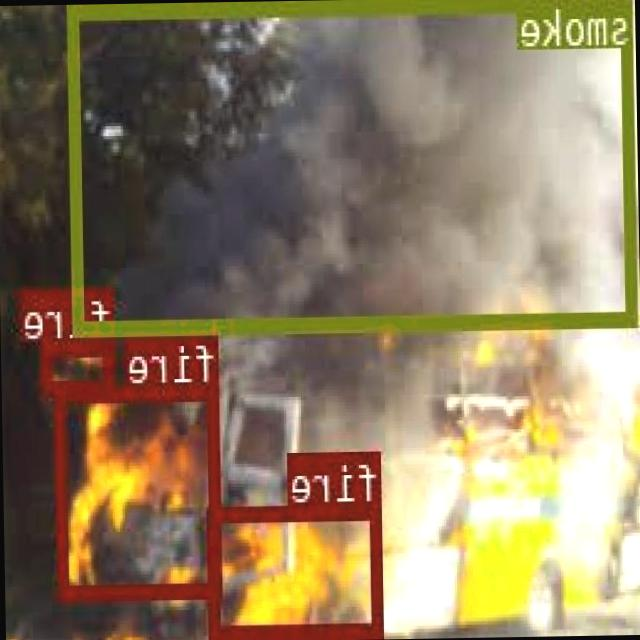fire: (56, 383, 224, 598), (211, 504, 386, 636), (44, 337, 116, 392)
smoke: (69, 0, 639, 331)
